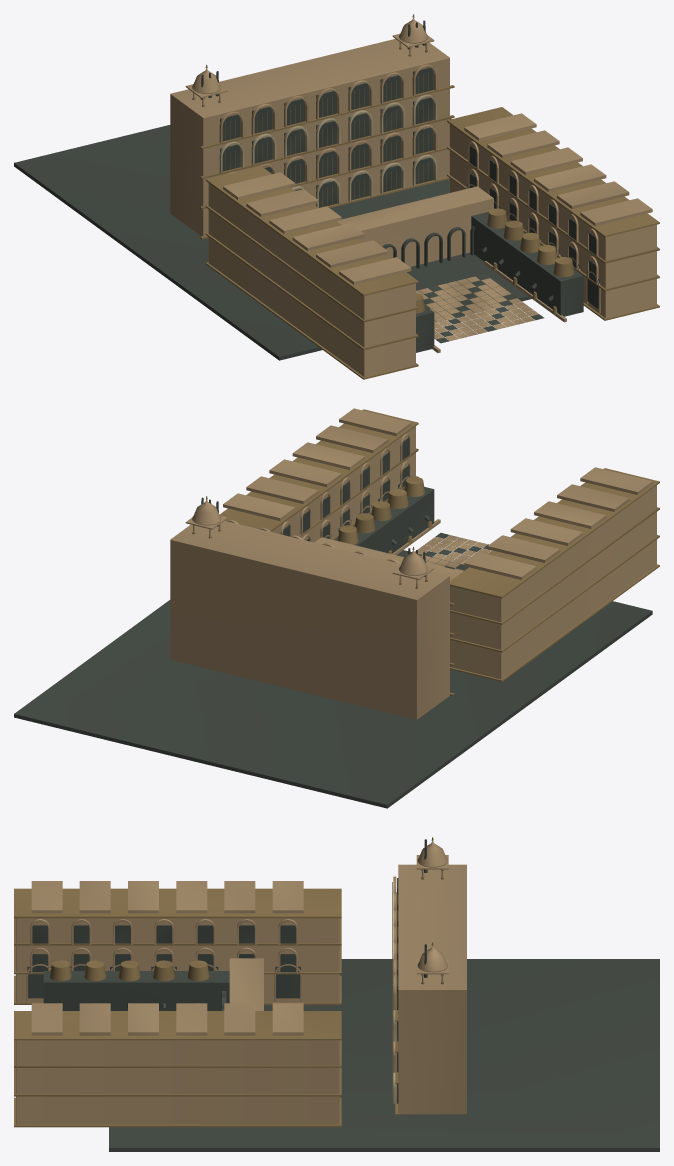
The model's file is arena-50.glb.
3 views of the same model, one above another, from view 1: azimuth 30°, elevation 25°; view 2: azimuth 150°, elevation 25°; view 3: azimuth 270°, elevation 25° (orthographic). The views are drawn at different scales.
Visible parts, largest first — view 1: correction-sand, correction-dark, correction-bronze, correction-plaster; view 2: correction-sand, correction-dark, correction-bronze; view 3: correction-sand, correction-dark, correction-bronze.
Part boxes in pixels (x1,y1,x2,y2): correction-sand: [170, 17, 656, 376]; correction-dark: [14, 20, 599, 360]; correction-bronze: [192, 14, 659, 379]; correction-plaster: [219, 94, 437, 207]; correction-sand: [170, 408, 656, 719]; correction-dark: [14, 438, 652, 808]; correction-bronze: [192, 409, 659, 695]; correction-sand: [16, 840, 466, 1124]; correction-dark: [27, 839, 659, 1151]; correction-bronze: [14, 837, 443, 1127].
Bounding box in the file's own units: 65 × 26.86 × 93.8.
